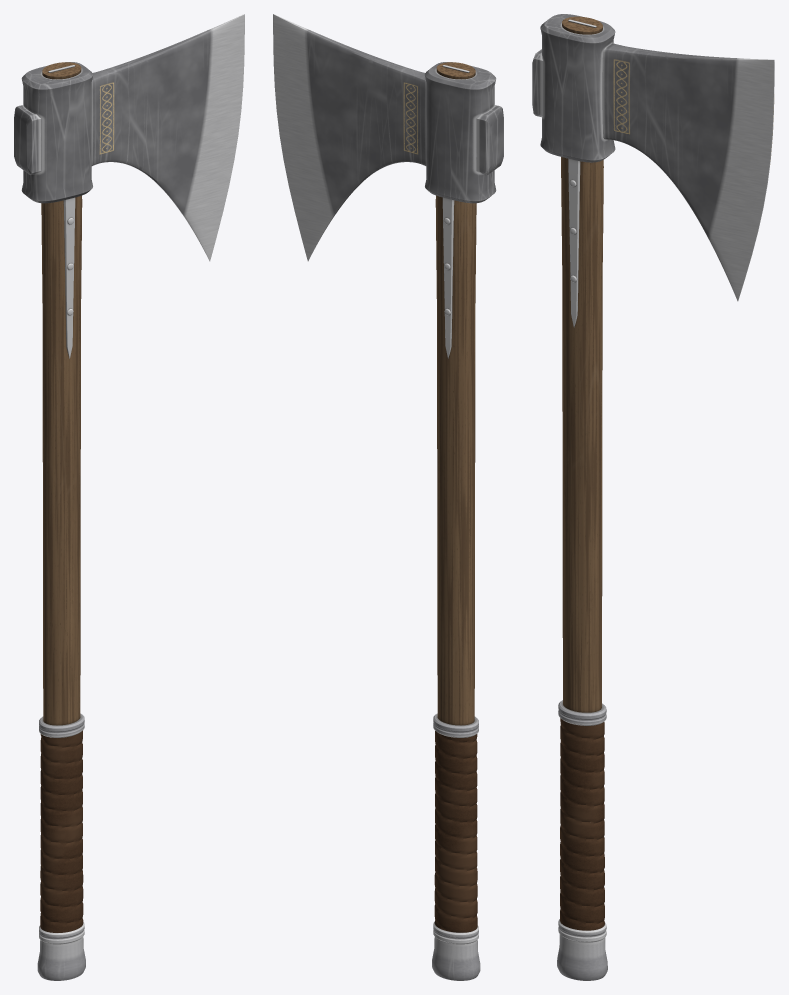
The model's file is SM_SteelAxe.glb.
3 renders of one model, left to right at view 1: azimuth 30°, elevation 25°; view 2: azimuth 150°, elevation 25°; view 3: azimuth 330°, elevation 25°, orthographic. The views are drawn at different scales.
Visible parts, largest first — view 1: SM_SteelAxe; view 2: SM_SteelAxe; view 3: SM_SteelAxe.
Part boxes in pixels (x1=…): SM_SteelAxe: x1=14, y1=14, x2=244, y2=980; SM_SteelAxe: x1=273, y1=14, x2=503, y2=980; SM_SteelAxe: x1=532, y1=14, x2=774, y2=980.
Bounding box in the file's own units: 0.206 × 0.806 × 0.0367.
1 material, 1 textured.
